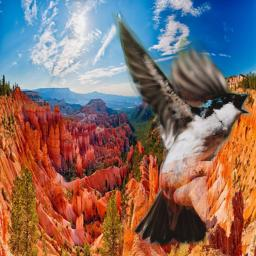Swallow: (110, 10, 252, 246)
